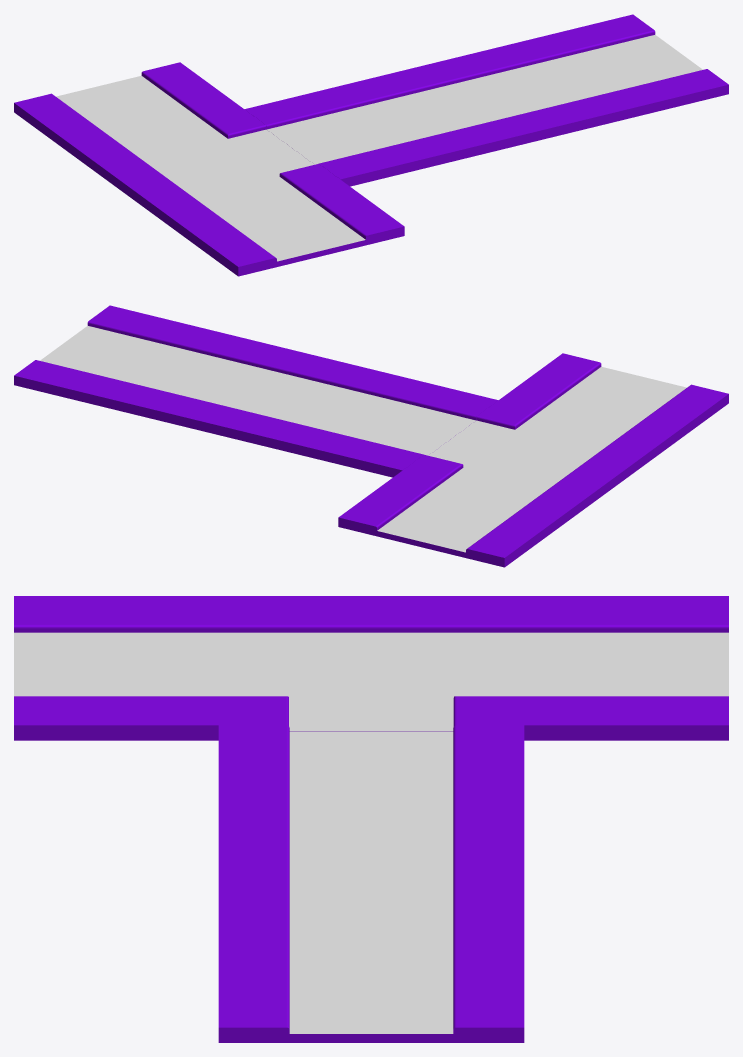
File: Road.fbx
3 renders of one model, top to bottom at view 1: azimuth 30°, elevation 25°; view 2: azimuth 150°, elevation 25°; view 3: azimuth 270°, elevation 25°, orthographic. The views are drawn at different scales.
Visible parts, largest first — view 1: SideWalk, Road; view 2: SideWalk, Road; view 3: Road, SideWalk.
Boxes of the visible parts, left/top/right/bottom form: SideWalk: left=14, top=14, right=728, bottom=276; Road: left=56, top=35, right=702, bottom=266; SideWalk: left=14, top=305, right=728, bottom=567; Road: left=40, top=326, right=686, bottom=557; Road: left=14, top=632, right=728, bottom=1042; SideWalk: left=14, top=596, right=728, bottom=1042.
Size of the model in its own units: 5137 by 84.57 by 3598.
